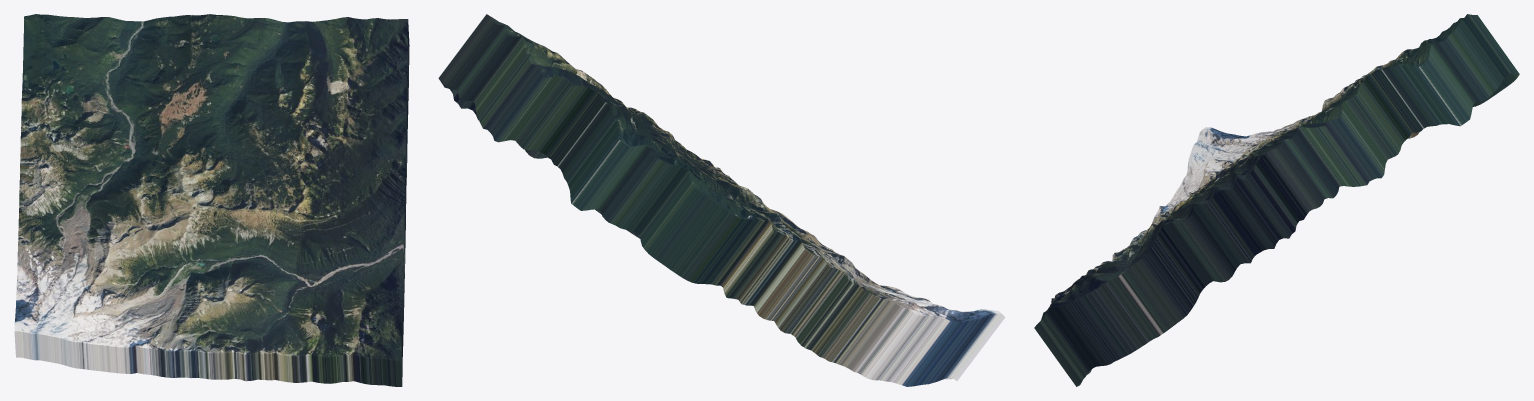
The picture shows the model from 3 angles, left to right: view 1: azimuth 30°, elevation 25°; view 2: azimuth 150°, elevation 25°; view 3: azimuth 270°, elevation 25°; orthographic projection. The views are drawn at different scales.
Bounding box in the file's own units: 21894 × 13150 × 20046.
1 material, 1 textured.
